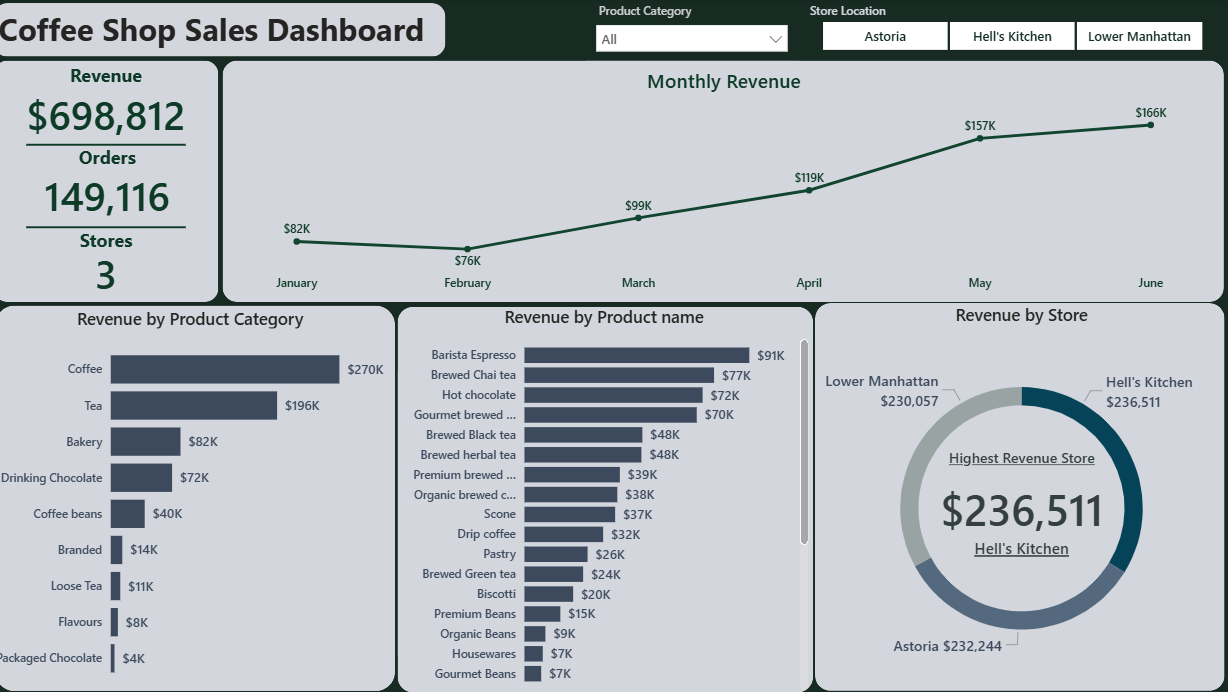

The page's visual inventory and layout, read from the dashboard file:
{"tool":"powerbi","page":{"name":"Revenue","canvas":[1280,720],"ordinal":0},"visuals":[{"type":"shape","box":[853.1,315.7,423.4,401.2],"z":0},{"type":"shape","box":[5,318.2,413.5,398.7],"z":1000},{"type":"shape","box":[3.7,64.6,232.2,249.6],"z":2000},{"type":"shape","box":[3.6,4.8,466.9,55.5],"z":3000},{"type":"card","title":"Revenue","fields":{"Values":["Sum(Coffee.Revenue)"]},"box":[3.7,64.6,232.2,90.6],"z":4000},{"type":"card","title":"Orders","fields":{"Values":["CountNonNull(Coffee.transaction_qty)"]},"box":[5,151.5,232.2,86.9],"z":5000},{"type":"textbox","box":[3.6,4.8,466.9,55.5],"z":6000},{"type":"shape","box":[240.9,64.6,1035,249.6],"z":7000},{"type":"shape","box":[37.3,149,165.2,6.2],"z":8000},{"type":"lineChart","title":"Monthly Revenue","fields":{"Category":["Coffee.transaction_date.Variation.Date Hierarchy.Month","Coffee.transaction_date.Variation.Date Hierarchy.Day"],"Y":["Sum(Coffee.Revenue)"]},"box":[241.4,64.4,1028.9,248.9],"z":9000},{"type":"shape","box":[37.3,233.5,165.2,6.2],"z":10000},{"type":"card","title":"Stores","fields":{"Values":["Coffee.Count of Stores"]},"box":[3.7,237.2,232.2,77],"z":11000},{"type":"slicer","fields":{"Values":["Coffee.store_location"]},"box":[834.5,0,442,60.7],"z":12000},{"type":"shape","box":[421,319.4,429.6,398.7],"z":13000},{"type":"barChart","title":"Revenue by Product Category","fields":{"Category":["Coffee.category"],"Y":["Sum(Coffee.Revenue)"]},"box":[0,319.4,413.5,398.7],"z":14000},{"type":"slicer","fields":{"Values":["Coffee.category"]},"box":[616.5,0,218.4,57.9],"z":15000},{"type":"clusteredBarChart","title":"Revenue by Product name","fields":{"Category":["Coffee.product_type"],"Y":["Sum(Coffee.Revenue)"]},"box":[418.5,318.2,432.1,402.4],"z":16000},{"type":"donutChart","title":"Revenue by Store","fields":{"Category":["Coffee.store_location"],"Y":["Sum(Coffee.Revenue)"]},"box":[853.1,315.7,427.2,402.4],"z":17000},{"type":"card","title":"Highest Revenue Store","fields":{"Values":["Coffee.Revenue for Hell's Kitchen"]},"box":[976.9,465.5,179.5,126.3],"z":18000}]}

Visuals, with their boxes in screenshot pixels (x1, y1, x2, y2), scaled from the page's 1280x720 canvas onto the 1228x692 screenshot:
shape: [818,303,1225,689]
shape: [5,306,401,689]
shape: [4,62,226,302]
shape: [3,5,451,58]
"Revenue" card: [4,62,226,149]
"Orders" card: [5,146,228,229]
textbox: [3,5,451,58]
shape: [231,62,1224,302]
shape: [36,143,194,149]
"Monthly Revenue" lineChart: [232,62,1219,301]
shape: [36,224,194,230]
"Stores" card: [4,228,226,302]
slicer - Coffee.store_location: [801,0,1225,58]
shape: [404,307,816,690]
"Revenue by Product Category" barChart: [0,307,397,690]
slicer - Coffee.category: [591,0,801,56]
"Revenue by Product name" clusteredBarChart: [401,306,816,691]
"Revenue by Store" donutChart: [818,303,1227,690]
"Highest Revenue Store" card: [937,447,1109,569]
